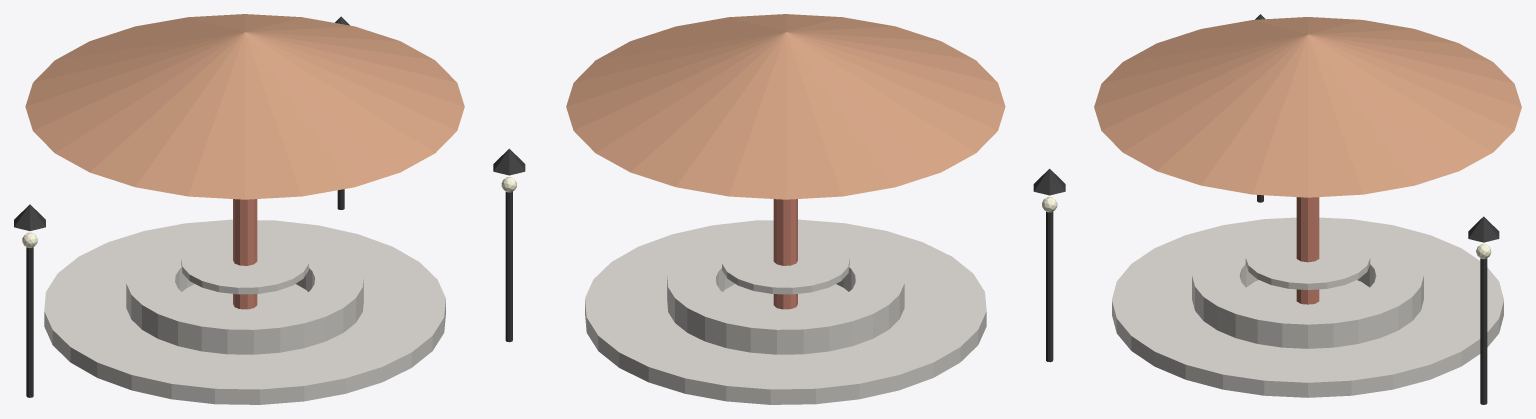
Rendered from gazebo.glb.
The picture shows the model from 3 angles, left to right: view 1: azimuth 30°, elevation 25°; view 2: azimuth 150°, elevation 25°; view 3: azimuth 270°, elevation 25°; orthographic projection. The views are drawn at different scales.
Parts seen in each view (by area): view 1: Gazebo__4, Gazebo__0, Gazebo__2, Gazebo__3, Gazebo__1, Gazebo__9, Gazebo__10; view 2: Gazebo__4, Gazebo__0, Gazebo__2, Gazebo__3, Gazebo__1, Gazebo__6, Gazebo__9, Gazebo__7, Gazebo__10; view 3: Gazebo__4, Gazebo__0, Gazebo__2, Gazebo__3, Gazebo__1, Gazebo__6, Gazebo__7.
Part boxes in pixels (bbox=[...]): Gazebo__4: bbox=[25, 14, 464, 199]; Gazebo__0: bbox=[44, 219, 445, 404]; Gazebo__2: bbox=[126, 230, 363, 354]; Gazebo__3: bbox=[181, 234, 308, 294]; Gazebo__1: bbox=[233, 199, 257, 309]; Gazebo__9: bbox=[26, 247, 33, 397]; Gazebo__10: bbox=[14, 204, 45, 230]; Gazebo__4: bbox=[566, 14, 1005, 199]; Gazebo__0: bbox=[585, 219, 986, 404]; Gazebo__2: bbox=[667, 230, 904, 354]; Gazebo__3: bbox=[722, 234, 849, 294]; Gazebo__1: bbox=[773, 199, 797, 309]; Gazebo__6: bbox=[505, 191, 512, 342]; Gazebo__9: bbox=[1046, 211, 1053, 362]; Gazebo__7: bbox=[493, 148, 525, 175]; Gazebo__10: bbox=[1033, 168, 1065, 195]; Gazebo__4: bbox=[1094, 17, 1521, 197]; Gazebo__0: bbox=[1112, 217, 1503, 397]; Gazebo__2: bbox=[1192, 227, 1423, 348]; Gazebo__3: bbox=[1245, 231, 1370, 289]; Gazebo__1: bbox=[1296, 197, 1319, 304]; Gazebo__6: bbox=[1480, 258, 1487, 404]; Gazebo__7: bbox=[1468, 216, 1499, 242].
Size of the model in its own units: 8.65 by 5.2 by 7.2.
